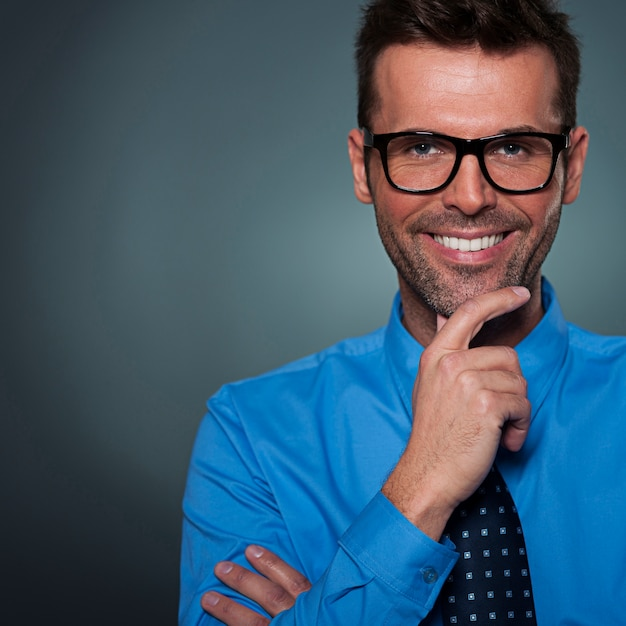young: (335, 9, 600, 337)
